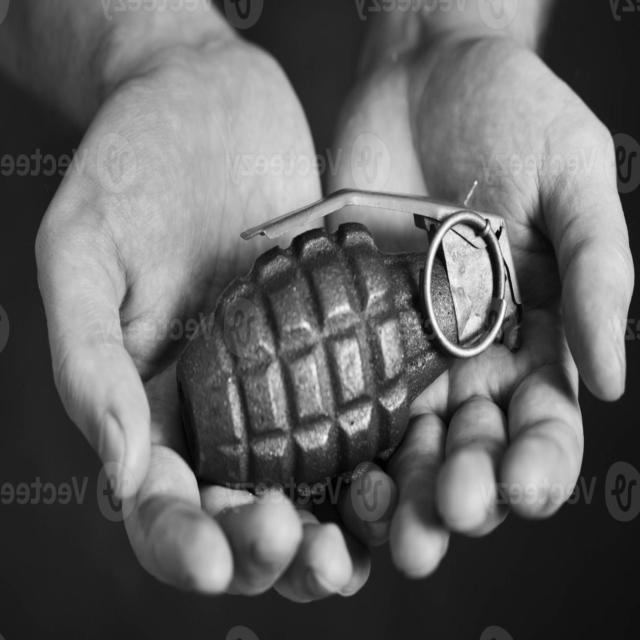grenade: (180, 188, 522, 509)
